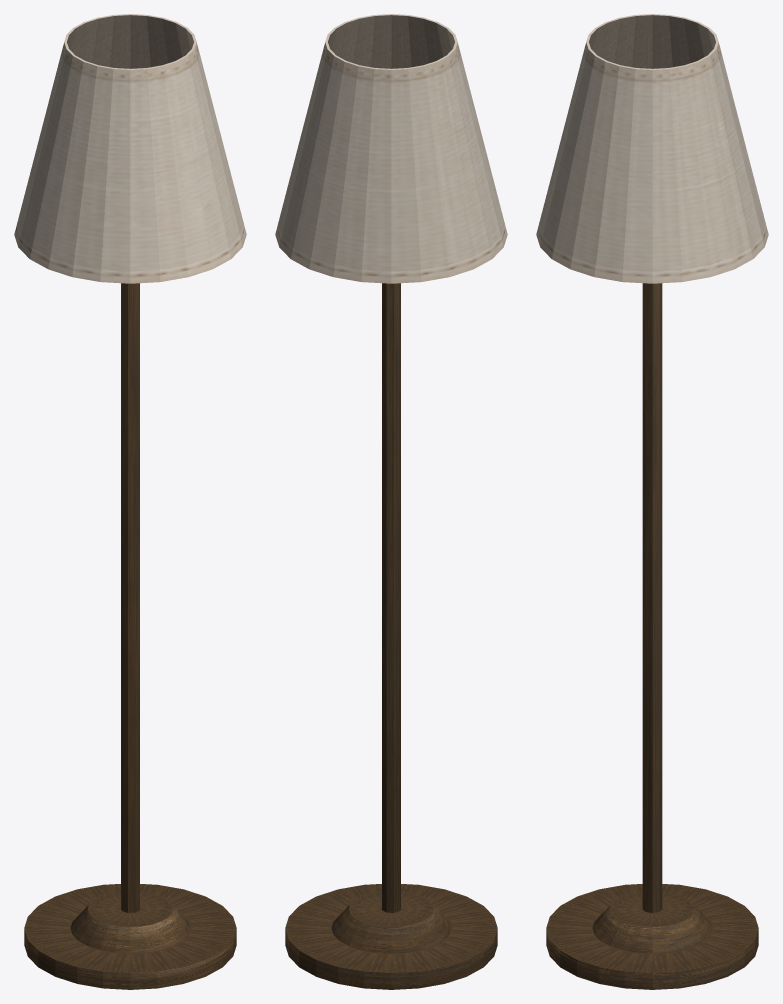
File: lamp.glb
3 renders of one model, left to right at view 1: azimuth 30°, elevation 25°; view 2: azimuth 150°, elevation 25°; view 3: azimuth 270°, elevation 25°, orthographic.
Parts seen in each view (by area): view 1: core_lamp; view 2: core_lamp; view 3: core_lamp.
Part boxes in pixels (x1=…): core_lamp: x1=14, y1=14, x2=246, y2=989; core_lamp: x1=275, y1=14, x2=507, y2=989; core_lamp: x1=536, y1=14, x2=768, y2=989.
Bounding box in the file's own units: 0.35 × 1.5 × 0.35.
Materials: 1 (1 with a texture image).
